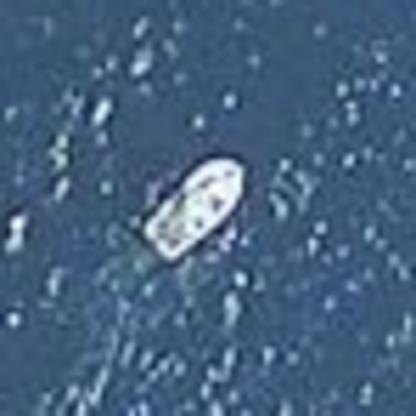ship: (130, 150, 250, 272)
